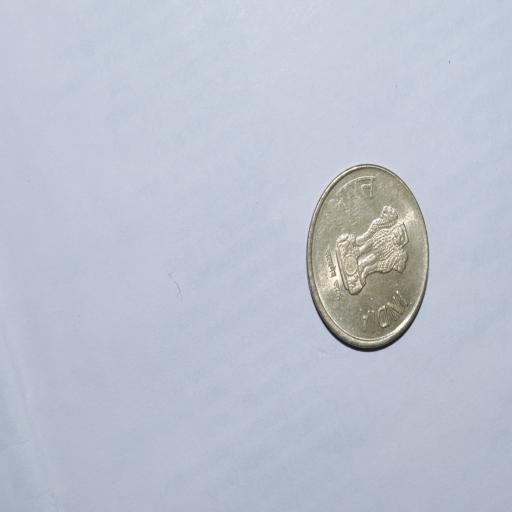rupee5: (306, 164, 428, 350)
